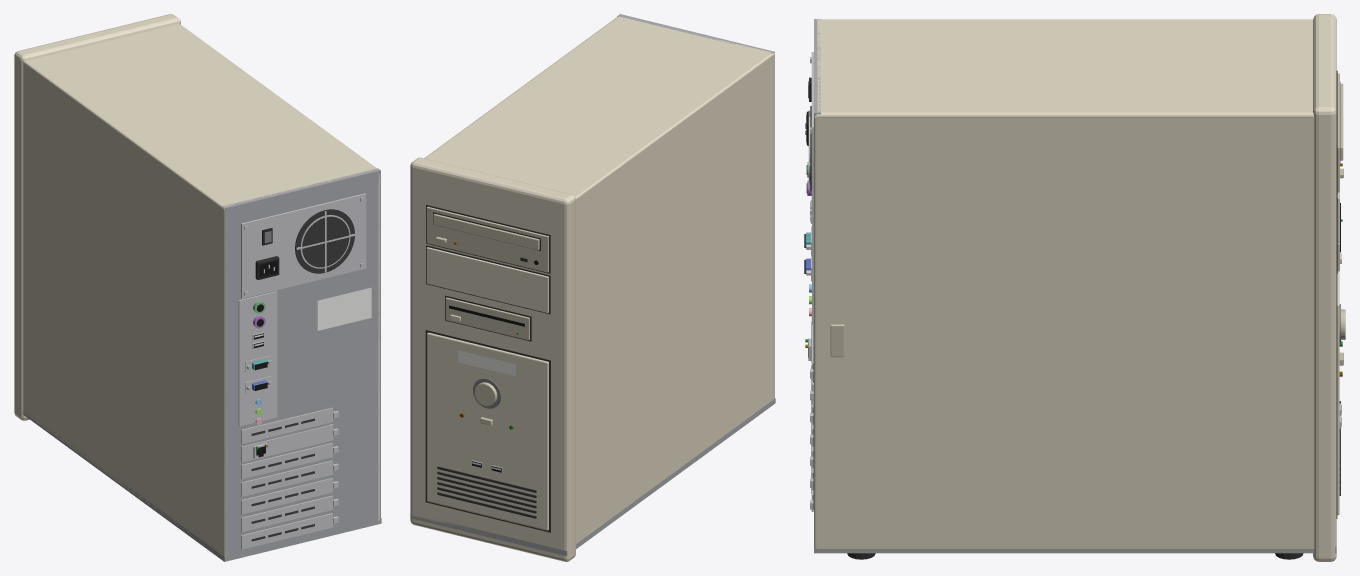
The picture shows the model from 3 angles, left to right: view 1: azimuth 30°, elevation 25°; view 2: azimuth 150°, elevation 25°; view 3: azimuth 270°, elevation 25°; orthographic projection. The views are drawn at different scales.
Visible parts, largest first — view 1: body, label, card_e100_body, slot_cover5, slot_cover6, slot_cover7, slot_cover1, slot_cover4, slot_cover3, side_panel; view 2: body, cd_tray, badge_front; view 3: side_panel, body.
Boxes of the visible parts, x1,y1,x2,y2 form: body: (14, 14, 381, 561); label: (317, 287, 371, 330); card_e100_body: (241, 424, 333, 462); slot_cover5: (241, 478, 332, 514); slot_cover6: (241, 495, 332, 531); slot_cover7: (241, 513, 332, 549); slot_cover1: (241, 407, 332, 443); slot_cover4: (241, 460, 332, 496); slot_cover3: (241, 443, 332, 479); side_panel: (378, 174, 379, 520); body: (410, 14, 775, 561); cd_tray: (433, 214, 539, 250); badge_front: (458, 350, 515, 376); side_panel: (814, 116, 1314, 548); body: (804, 14, 1341, 561).
Bounding box in the file's own units: 0.195 × 0.425 × 0.4556.
